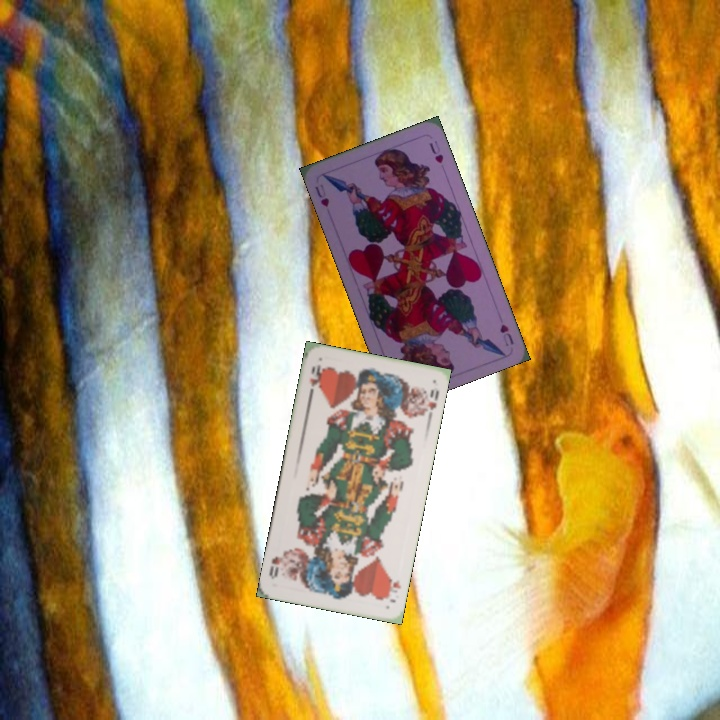HO: (382, 572, 403, 605), (305, 361, 323, 398)
HU: (311, 180, 332, 209), (496, 320, 517, 349)
